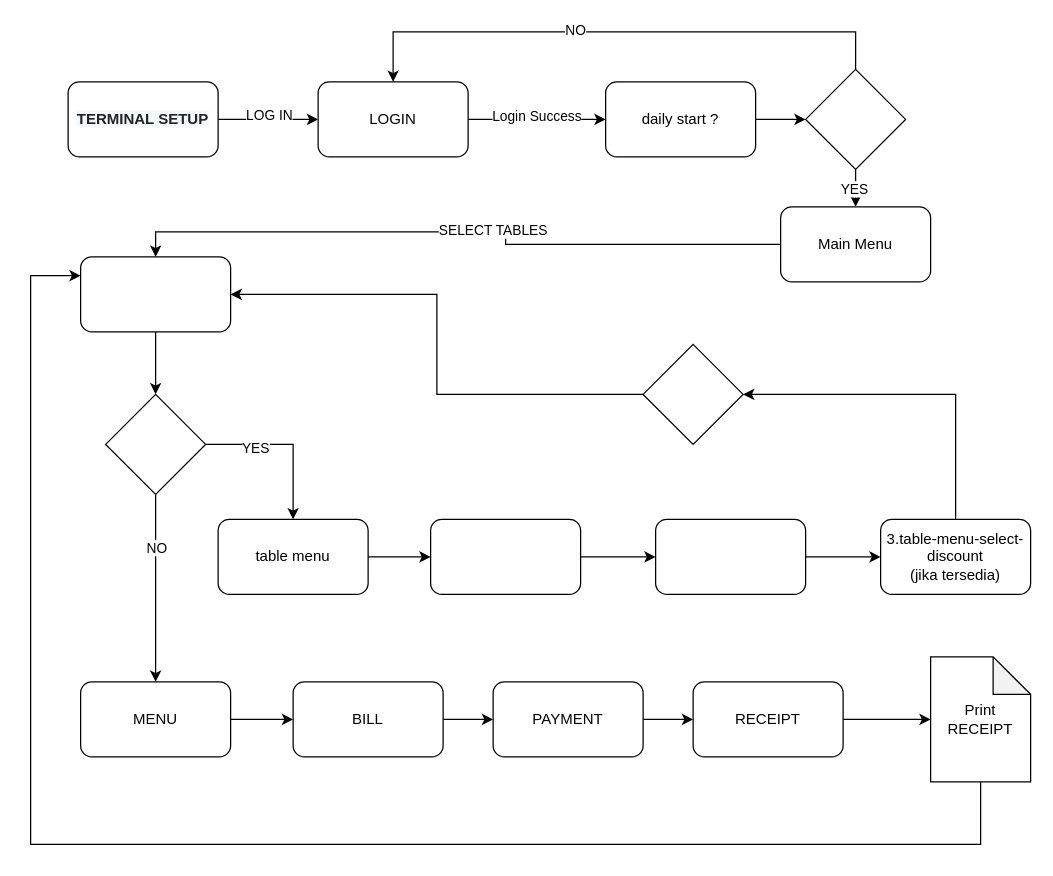
Some shapes in this 1053 by 876 pixel diagram are drawn without their labels. Each missing label, with the centre of its shape:
"1.table-menu-select-menu" goes at point (505, 556).
"2.table-menu-select-modifier.jpg" goes at point (730, 556).
"new order" goes at point (155, 443).
"select" goes at point (855, 118).
"SEND ORDER" goes at point (692, 393).
"Tables" goes at point (155, 294).
